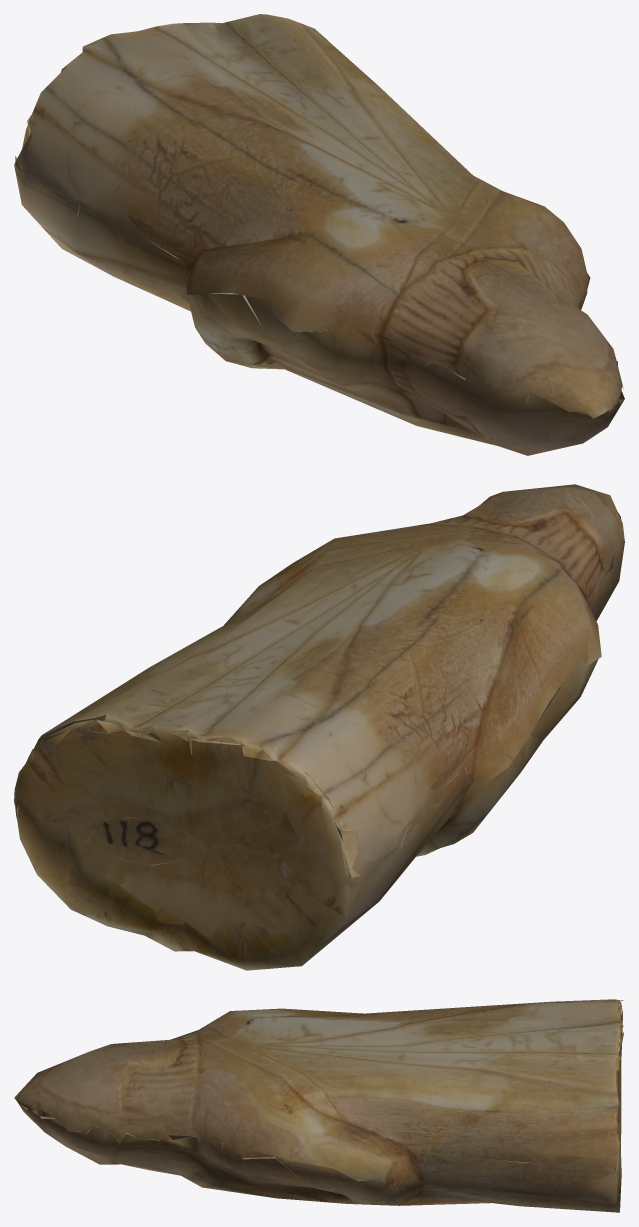
The model's file is rook.glb.
3 renders of one model, top to bottom at view 1: azimuth 30°, elevation 25°; view 2: azimuth 150°, elevation 25°; view 3: azimuth 270°, elevation 25°, orthographic. The views are drawn at different scales.
Visible parts, largest first — view 1: rook; view 2: rook; view 3: rook.
Part boxes in pixels (bbox=[...]): rook: bbox=[14, 14, 624, 455]; rook: bbox=[14, 484, 624, 970]; rook: bbox=[14, 999, 623, 1212].
Bounding box in the file's own units: 1.92 × 1.25 × 4.22.
1 material, 1 textured.
